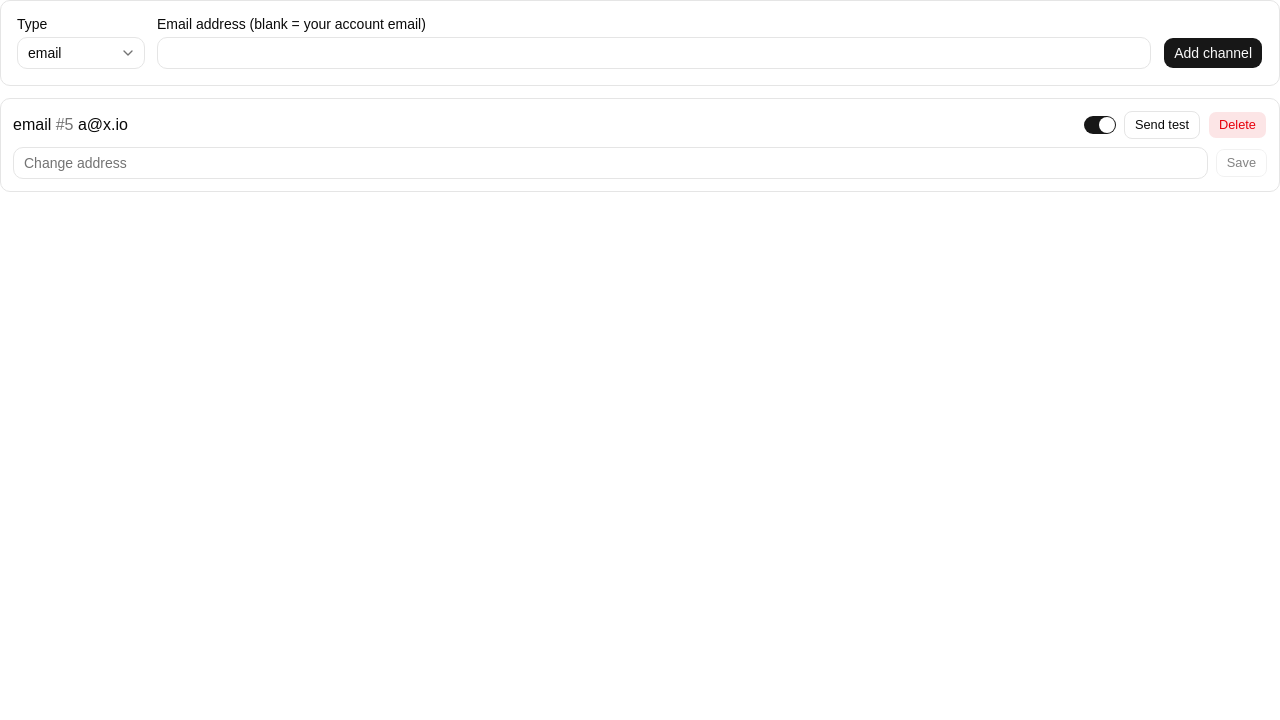
Test case: Channels page › Send test shows a success toast, and the error toast when ok is false
Click the button "Send test": x=1162, y=125 left=1124, top=111, right=1200, bottom=139
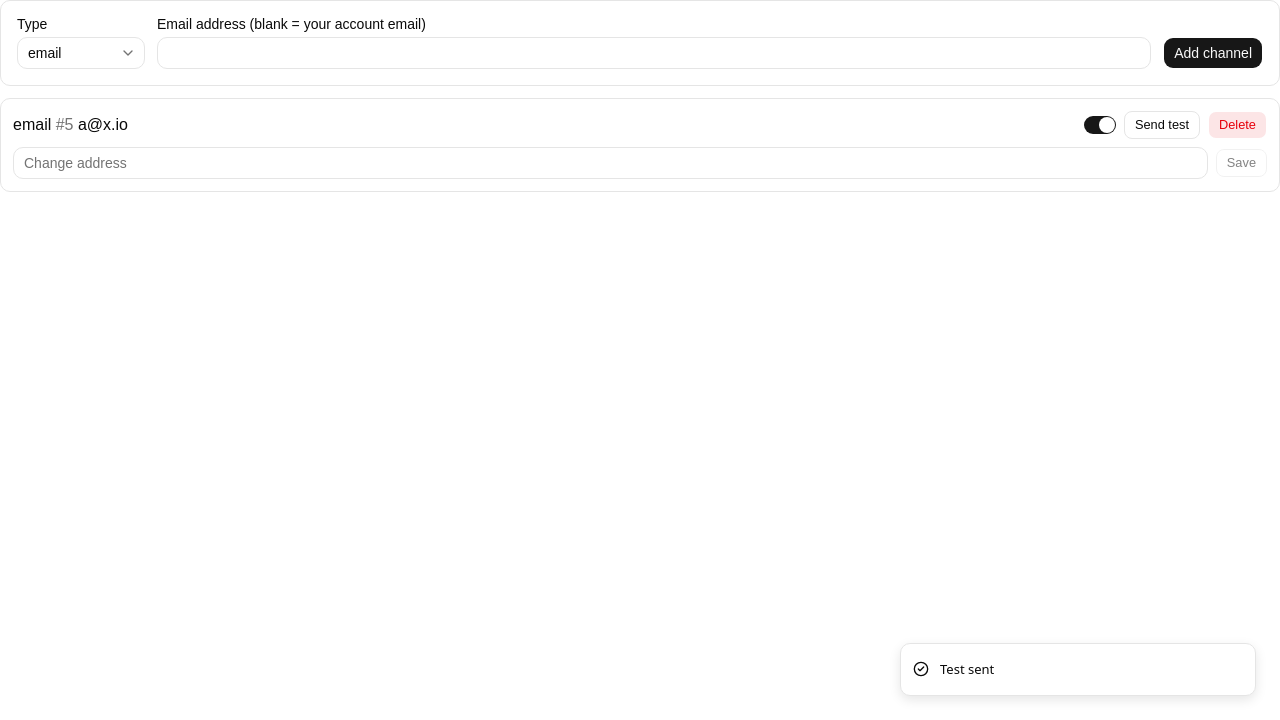
Now the text "Test sent" is shown, box left=940, top=660, right=994, bottom=679
Click the button "Send test": x=1162, y=125 left=1124, top=111, right=1200, bottom=139
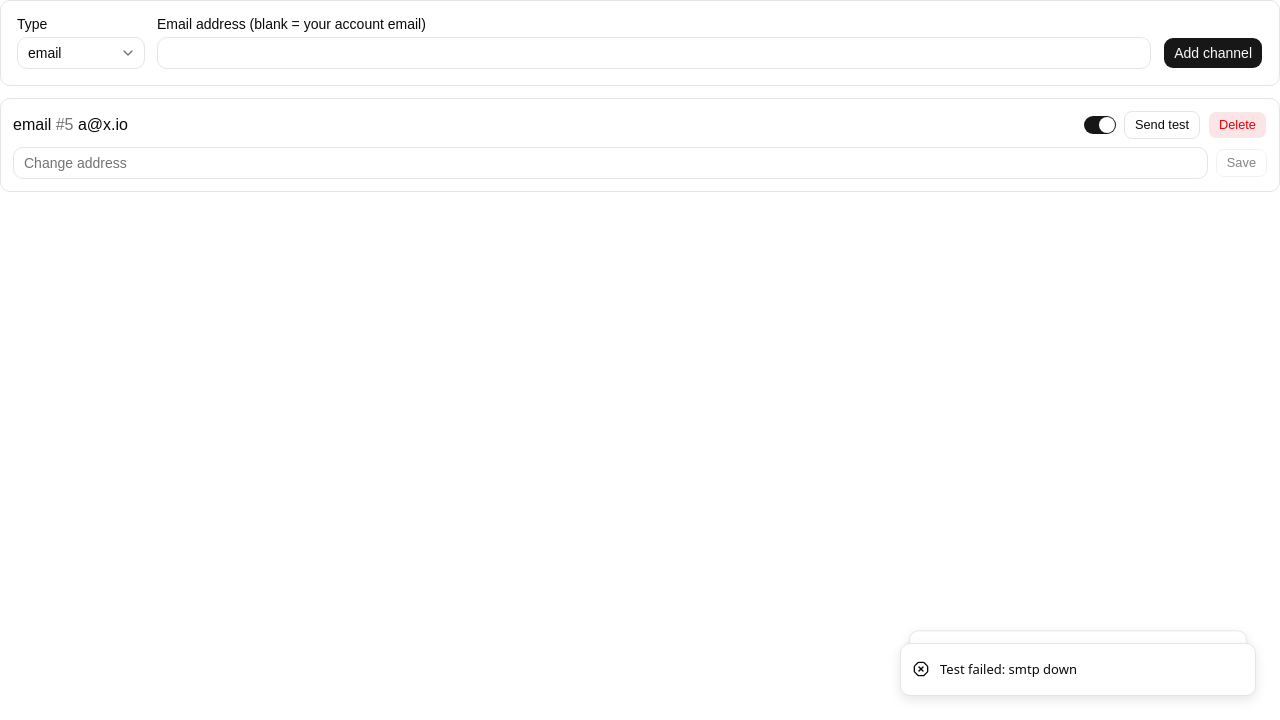
Now the text "Test failed: smtp down" is shown, box left=940, top=660, right=1077, bottom=679
